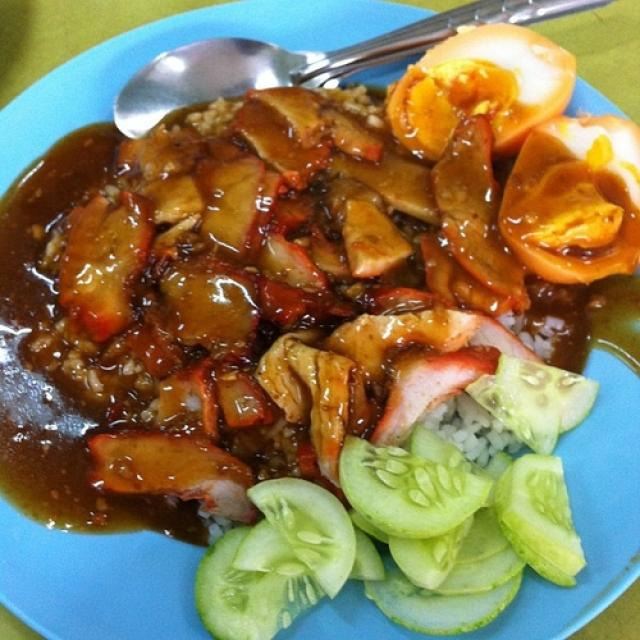猪肉菜式: (15, 28, 613, 581)
